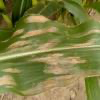Corn leaf blight: (1, 16, 99, 95)
